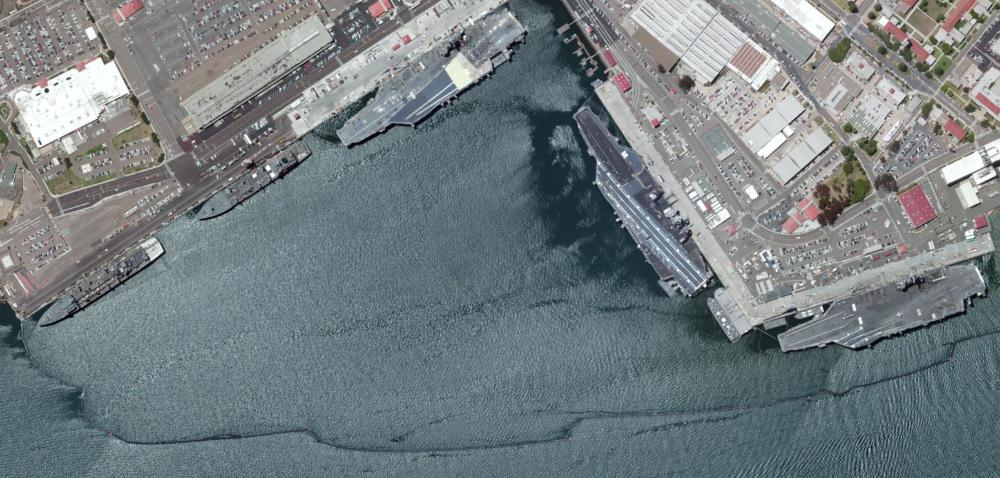supply: (31, 232, 176, 336)
tender: (199, 135, 315, 229)
